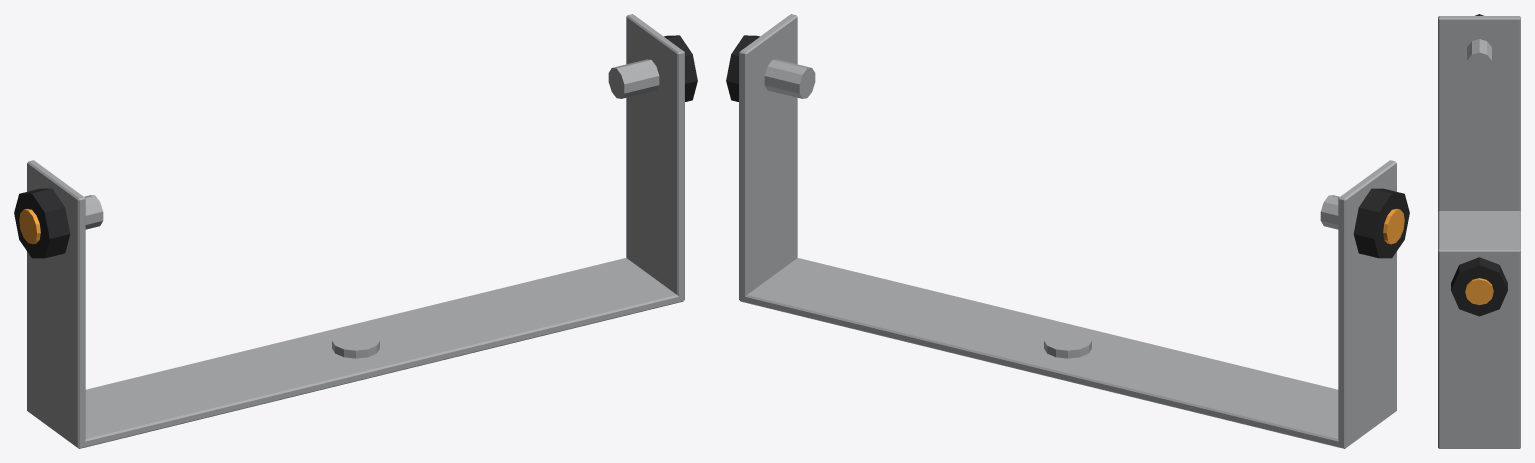
Rendered from csc_blinder_x2_base.obj.
3 renders of one model, left to right at view 1: azimuth 30°, elevation 25°; view 2: azimuth 150°, elevation 25°; view 3: azimuth 270°, elevation 25°, orthographic. The views are drawn at different scales.
Parts seen in each view (by area): view 1: base_csc_adafb1, base_csc_272729; view 2: base_csc_adafb1, base_csc_272729; view 3: base_csc_adafb1, base_csc_272729, base_csc_f9a238.
Boxes of the visible parts, x1,y1,x2,y2 form: base_csc_adafb1: [27, 14, 684, 448]; base_csc_272729: [14, 35, 697, 258]; base_csc_adafb1: [739, 14, 1396, 448]; base_csc_272729: [726, 35, 1409, 258]; base_csc_adafb1: [1438, 16, 1520, 448]; base_csc_272729: [1451, 14, 1507, 316]; base_csc_f9a238: [1465, 278, 1493, 304].
Bounding box in the file's own units: 1.12 × 0.4071 × 0.1536.
